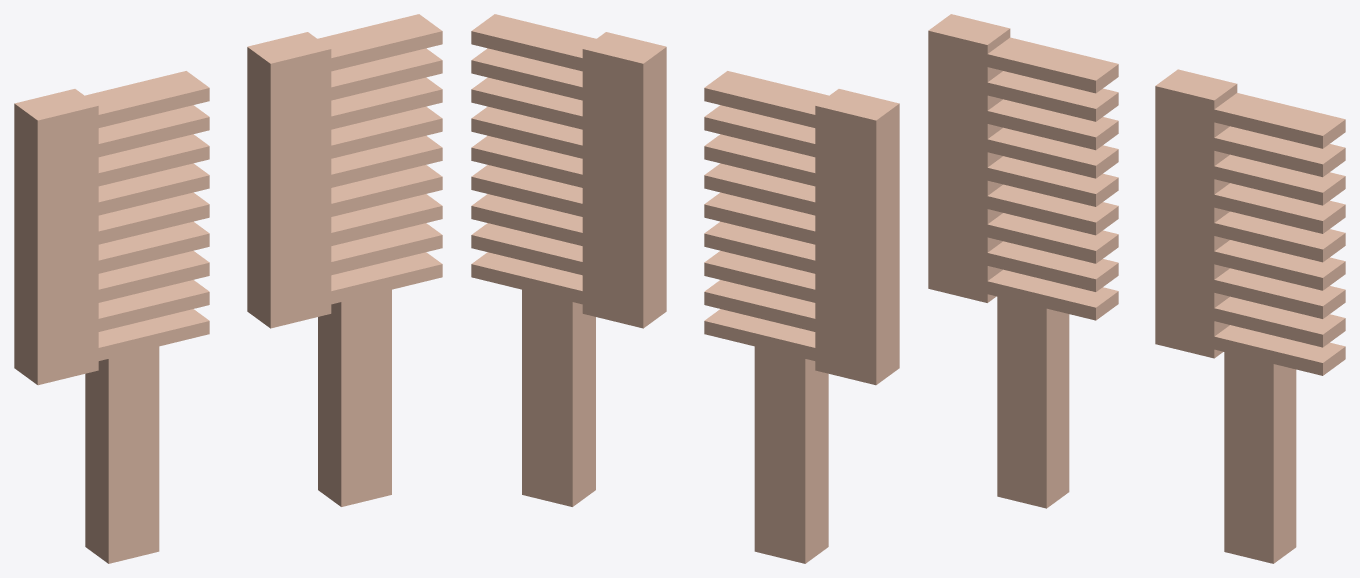
Rendered from TRD-05-02.glb.
3 renders of one model, left to right at view 1: azimuth 30°, elevation 25°; view 2: azimuth 150°, elevation 25°; view 3: azimuth 330°, elevation 25°, orthographic. The views are drawn at different scales.
Visible parts, largest first — view 1: TRD-05-02; view 2: TRD-05-02; view 3: TRD-05-02.
Boxes of the visible parts, bbox=[...] form: TRD-05-02: bbox=[14, 14, 442, 563]; TRD-05-02: bbox=[471, 14, 899, 563]; TRD-05-02: bbox=[928, 14, 1345, 563].
Bounding box in the file's own units: 0.8 × 0.87 × 0.08.
